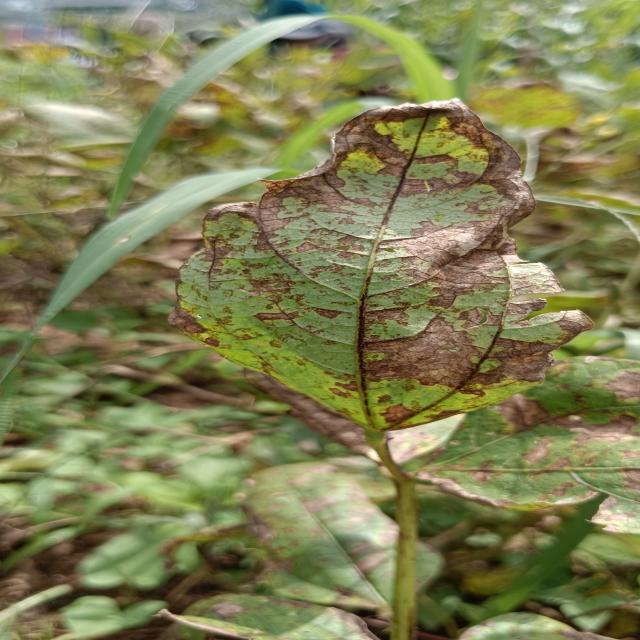Black gram_leaf spot: (165, 91, 601, 447), (412, 359, 640, 535), (227, 462, 453, 610)
